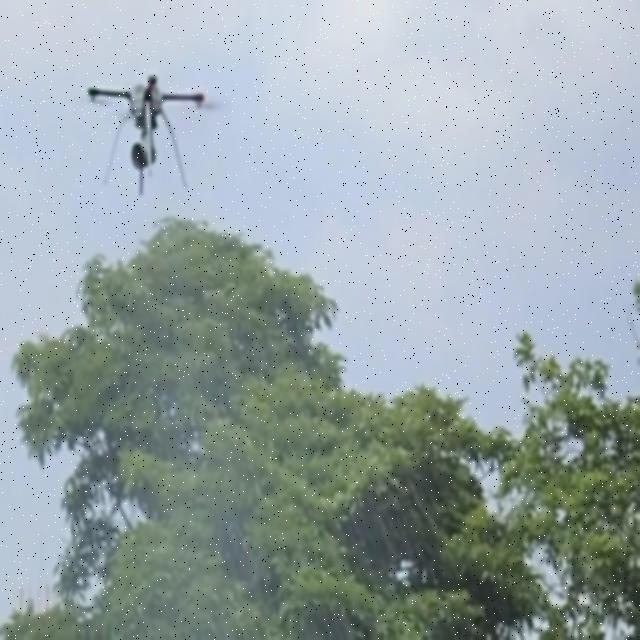UAV: (88, 76, 204, 196)
